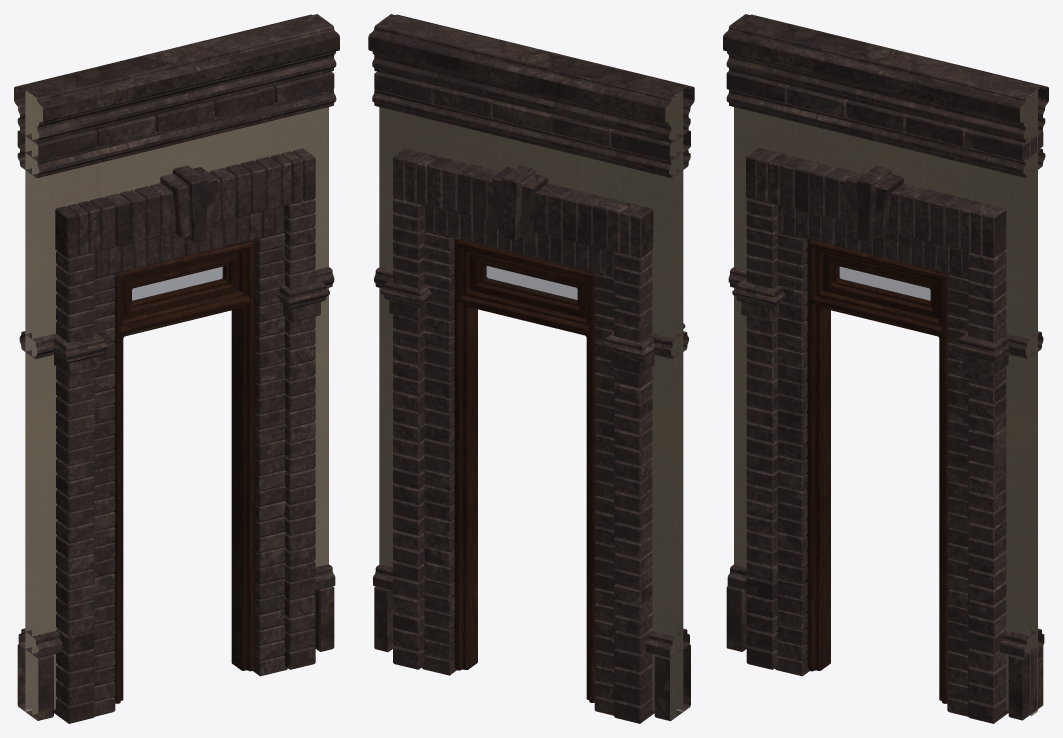
Rendered from SK2 DOOR 1 INT.fbx.
3 views of the same model, side by side, from view 1: azimuth 30°, elevation 25°; view 2: azimuth 150°, elevation 25°; view 3: azimuth 330°, elevation 25° (orthographic).
Parts seen in each view (by area): view 1: SK2 DOOR 1 INT.012; view 2: SK2 DOOR 1 INT.012; view 3: SK2 DOOR 1 INT.012.
Boxes of the visible parts, <box> form: SK2 DOOR 1 INT.012: <box>14,14,339,723</box>; SK2 DOOR 1 INT.012: <box>368,14,694,723</box>; SK2 DOOR 1 INT.012: <box>723,14,1048,723</box>.
Size of the model in its own units: 200 by 406 by 51.14.
